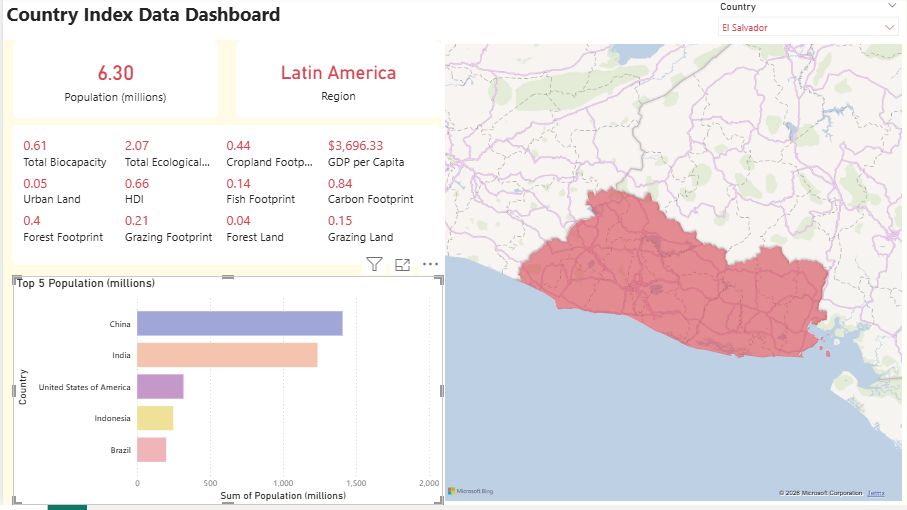

The page's visual inventory and layout, read from the dashboard file:
{"tool":"powerbi","page":{"name":"Page 1","canvas":[1280,720],"ordinal":0},"visuals":[{"type":"textbox","box":[0,0,1279.8,60.9],"z":0},{"type":"slicer","fields":{"Values":["countries.Country"]},"box":[1003.5,0,276.4,60.9],"z":1000},{"type":"filledMap","fields":{"Category":["countries.Country"]},"box":[620.8,60.9,659.1,659.1],"z":2000},{"type":"card","fields":{"Values":["Sum(countries.Population (millions))"]},"box":[14.2,60.9,290.6,110.6],"z":3000},{"type":"card","fields":{"Values":["Min(countries.Region)"]},"box":[330.2,60.9,290.6,110.6],"z":4000},{"type":"multiRowCard","fields":{"Values":["countries.Total Biocapacity","countries.Total Ecological Footprint","countries.Cropland Footprint","countries.GDP per Capita","countries.Urban Land","countries.HDI","countries.Fish Footprint","countries.Carbon Footprint","countries.Forest Footprint","countries.Grazing Footprint","countries.Forest Land","countries.Grazing Land"]},"box":[13.4,181.4,608.1,198.2],"z":5000},{"type":"barChart","title":"Top 5 Population (millions) ","fields":{"Category":["countries.Country"],"Y":["Sum(countries.Population (millions))"]},"box":[13.4,394.8,608.1,325.9],"z":6000}]}

Visuals, with their boxes in screenshot pixels (x1, y1, x2, y2), scaled from the page's 1280x720 canvas onto the 907x510 screenshot:
textbox: x1=0 y1=0 x2=906 y2=43
slicer - countries.Country: x1=711 y1=0 x2=906 y2=43
filledMap - countries.Country: x1=440 y1=43 x2=906 y2=509
card - Sum(countries.Population (millions)): x1=10 y1=43 x2=216 y2=121
card - Min(countries.Region): x1=234 y1=43 x2=440 y2=121
multiRowCard - countries.Total Biocapacity x countries.Total Ecological Footprint: x1=9 y1=128 x2=440 y2=269
"Top 5 Population (millions) " barChart: x1=9 y1=280 x2=440 y2=509
